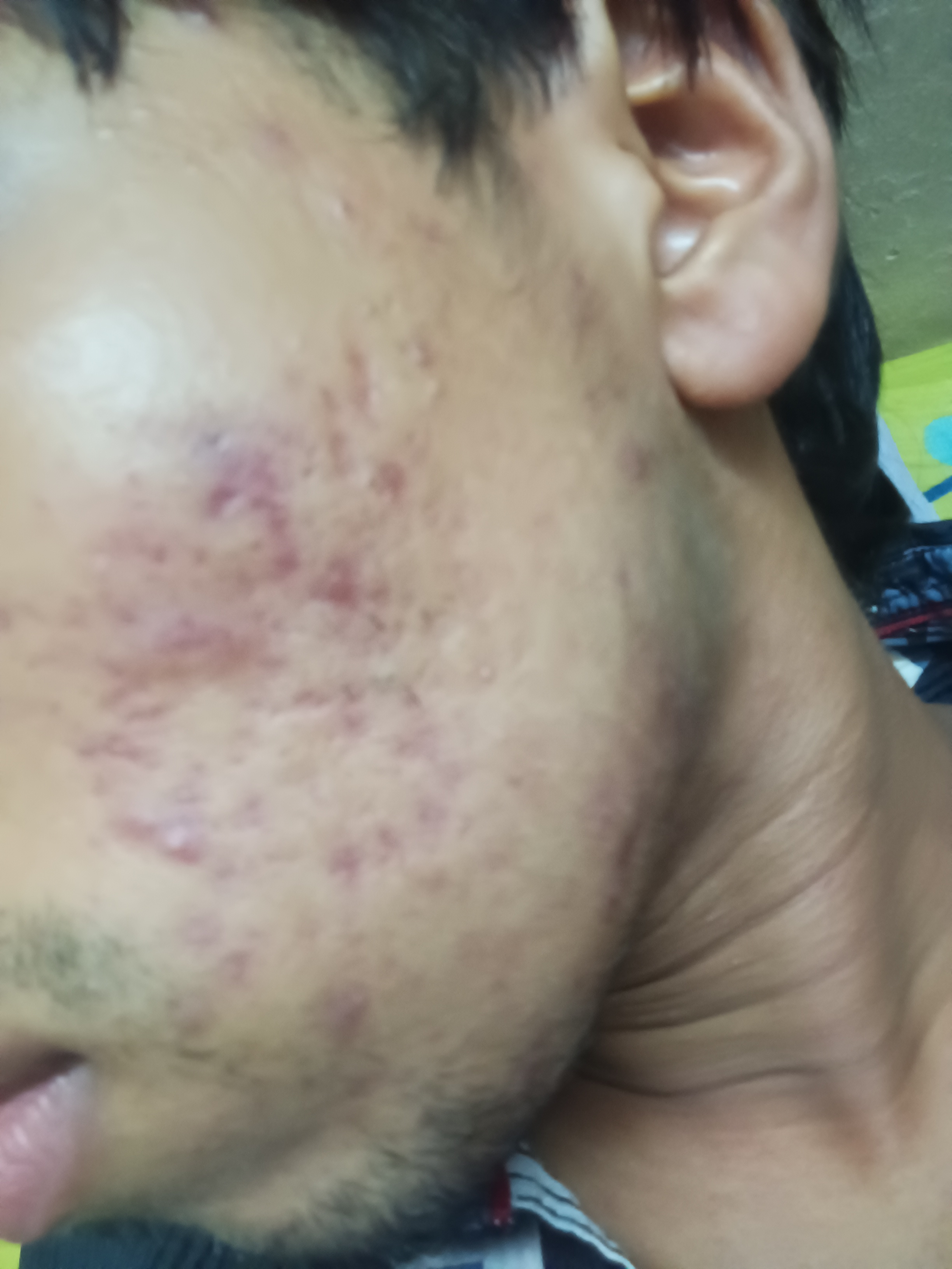macrocomedone: (422, 377, 453, 407)
papule: (156, 829, 203, 870)
